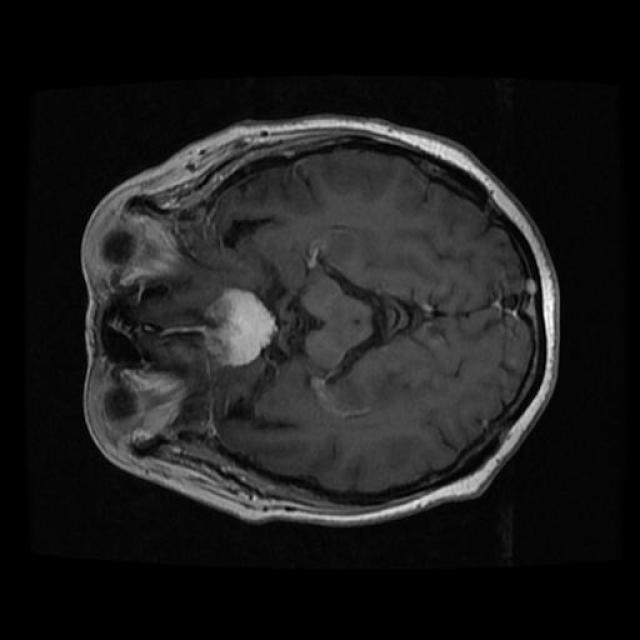Meningioma: (187, 289, 277, 366)
